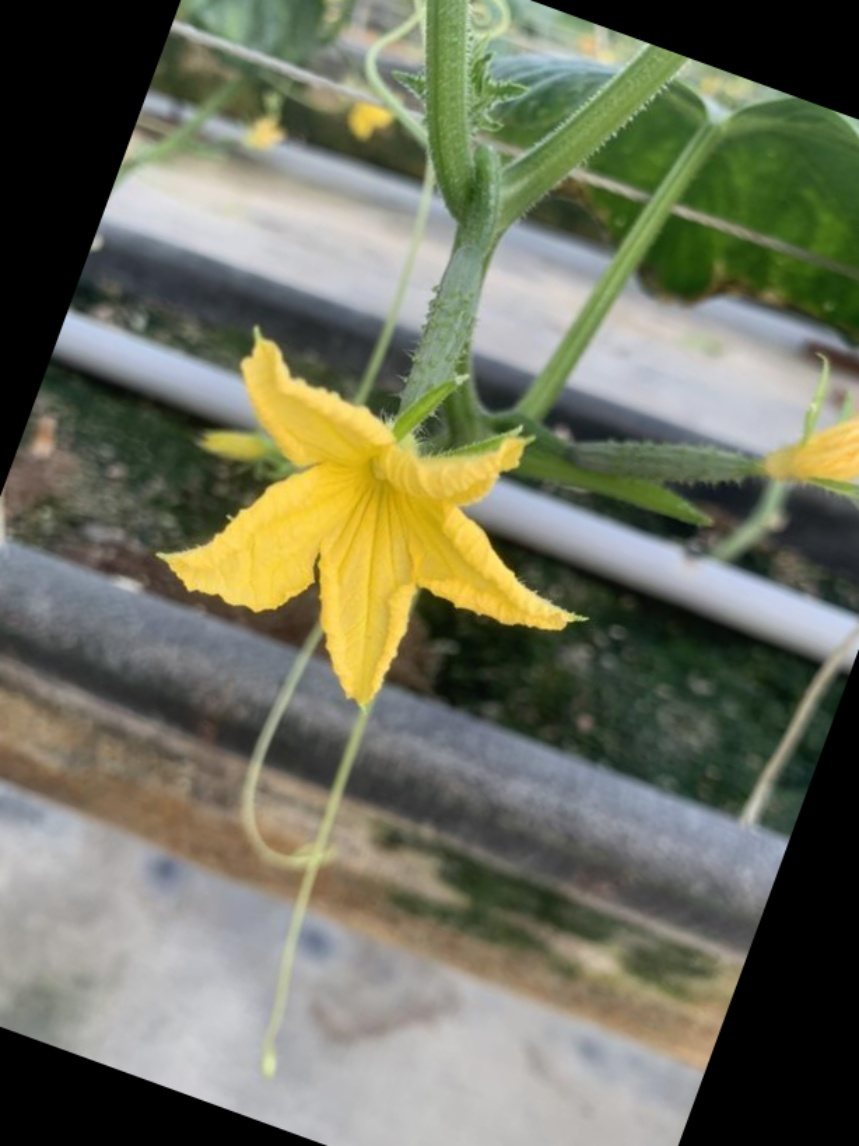flowering: (173, 230, 622, 701)
